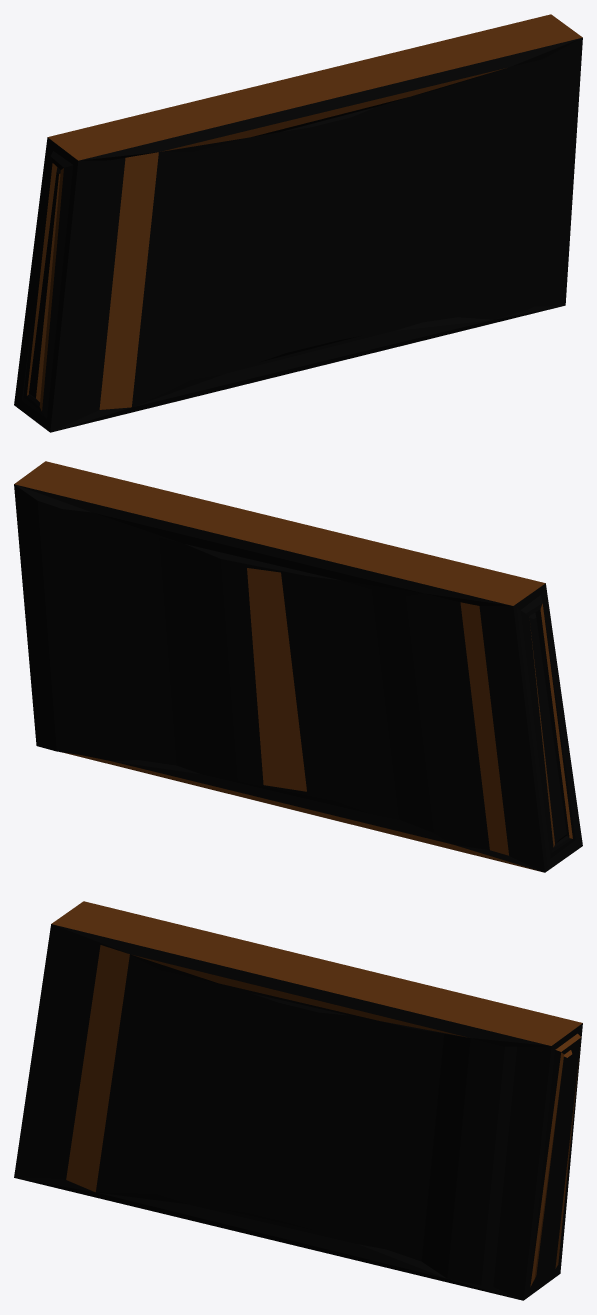
The model's file is Magazine.fbx.
The picture shows the model from 3 angles, top to bottom: view 1: azimuth 30°, elevation 25°; view 2: azimuth 150°, elevation 25°; view 3: azimuth 330°, elevation 25°; orthographic projection.
Parts seen in each view (by area): view 1: Magazine; view 2: Magazine; view 3: Magazine.
Part boxes in pixels (x1,y1,x2,y2): Magazine: (14,14,582,432); Magazine: (14,461,582,872); Magazine: (14,901,582,1300).
Size of the model in its own units: 2315 by 1068 by 331.
